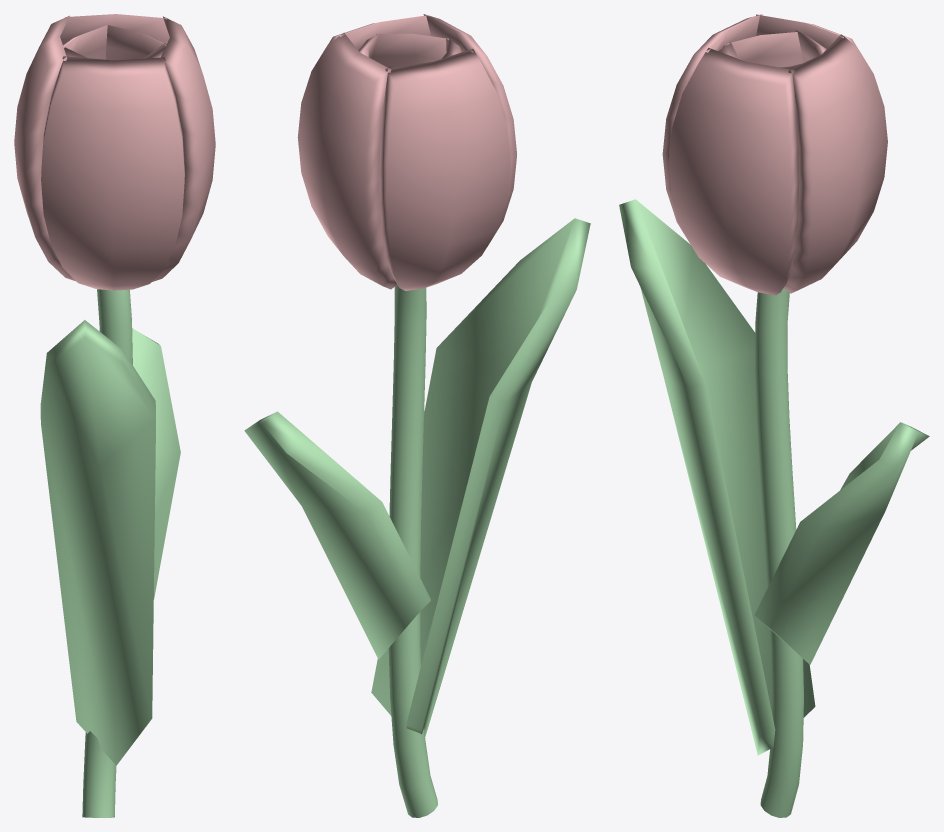
The model's file is FlowerAR2.glb.
The picture shows the model from 3 angles, left to right: view 1: azimuth 30°, elevation 25°; view 2: azimuth 150°, elevation 25°; view 3: azimuth 270°, elevation 25°; orthographic projection.
Visible parts, largest first — view 1: 平面, 球体.008, 球体.011, 球体.009, 平面.001, 贝塞尔曲线, 球体.010, 球体.014, 球体.013; view 2: 平面, 球体.009, 平面.001, 球体.010, 贝塞尔曲线, 球体.008, 球体.015, 球体.011; view 3: 平面, 球体.011, 球体.010, 平面.001, 贝塞尔曲线, 球体.008, 球体.012, 球体.009.
Part boxes in pixels (x1=…): 平面: x1=40, y1=320, x2=155, y2=765; 球体.008: x1=41, y1=56, x2=184, y2=290; 球体.011: x1=152, y1=16, x2=215, y2=281; 球体.009: x1=14, y1=15, x2=75, y2=281; 平面.001: x1=132, y1=328, x2=180, y2=599; 贝塞尔曲线: x1=82, y1=289, x2=132, y2=817; 球体.010: x1=60, y1=14, x2=169, y2=59; 球体.014: x1=106, y1=25, x2=166, y2=60; 球体.013: x1=63, y1=25, x2=107, y2=59; 平面: x1=371, y1=218, x2=590, y2=737; 球体.009: x1=379, y1=48, x2=510, y2=290; 平面.001: x1=244, y1=411, x2=430, y2=659; 球体.010: x1=297, y1=33, x2=397, y2=289; 贝塞尔曲线: x1=388, y1=285, x2=437, y2=817; 球体.008: x1=423, y1=14, x2=516, y2=246; 球体.015: x1=371, y1=33, x2=448, y2=66; 球体.011: x1=328, y1=15, x2=430, y2=50; 平面: x1=619, y1=199, x2=815, y2=755; 球体.011: x1=668, y1=48, x2=799, y2=295; 球体.010: x1=784, y1=34, x2=887, y2=293; 平面.001: x1=754, y1=422, x2=929, y2=664; 贝塞尔曲线: x1=755, y1=288, x2=803, y2=817; 球体.008: x1=662, y1=14, x2=762, y2=229; 球体.012: x1=723, y1=32, x2=802, y2=67; 球体.009: x1=756, y1=14, x2=856, y2=48.
Size of the model in its own units: 2.02 by 6.7 by 2.43.
